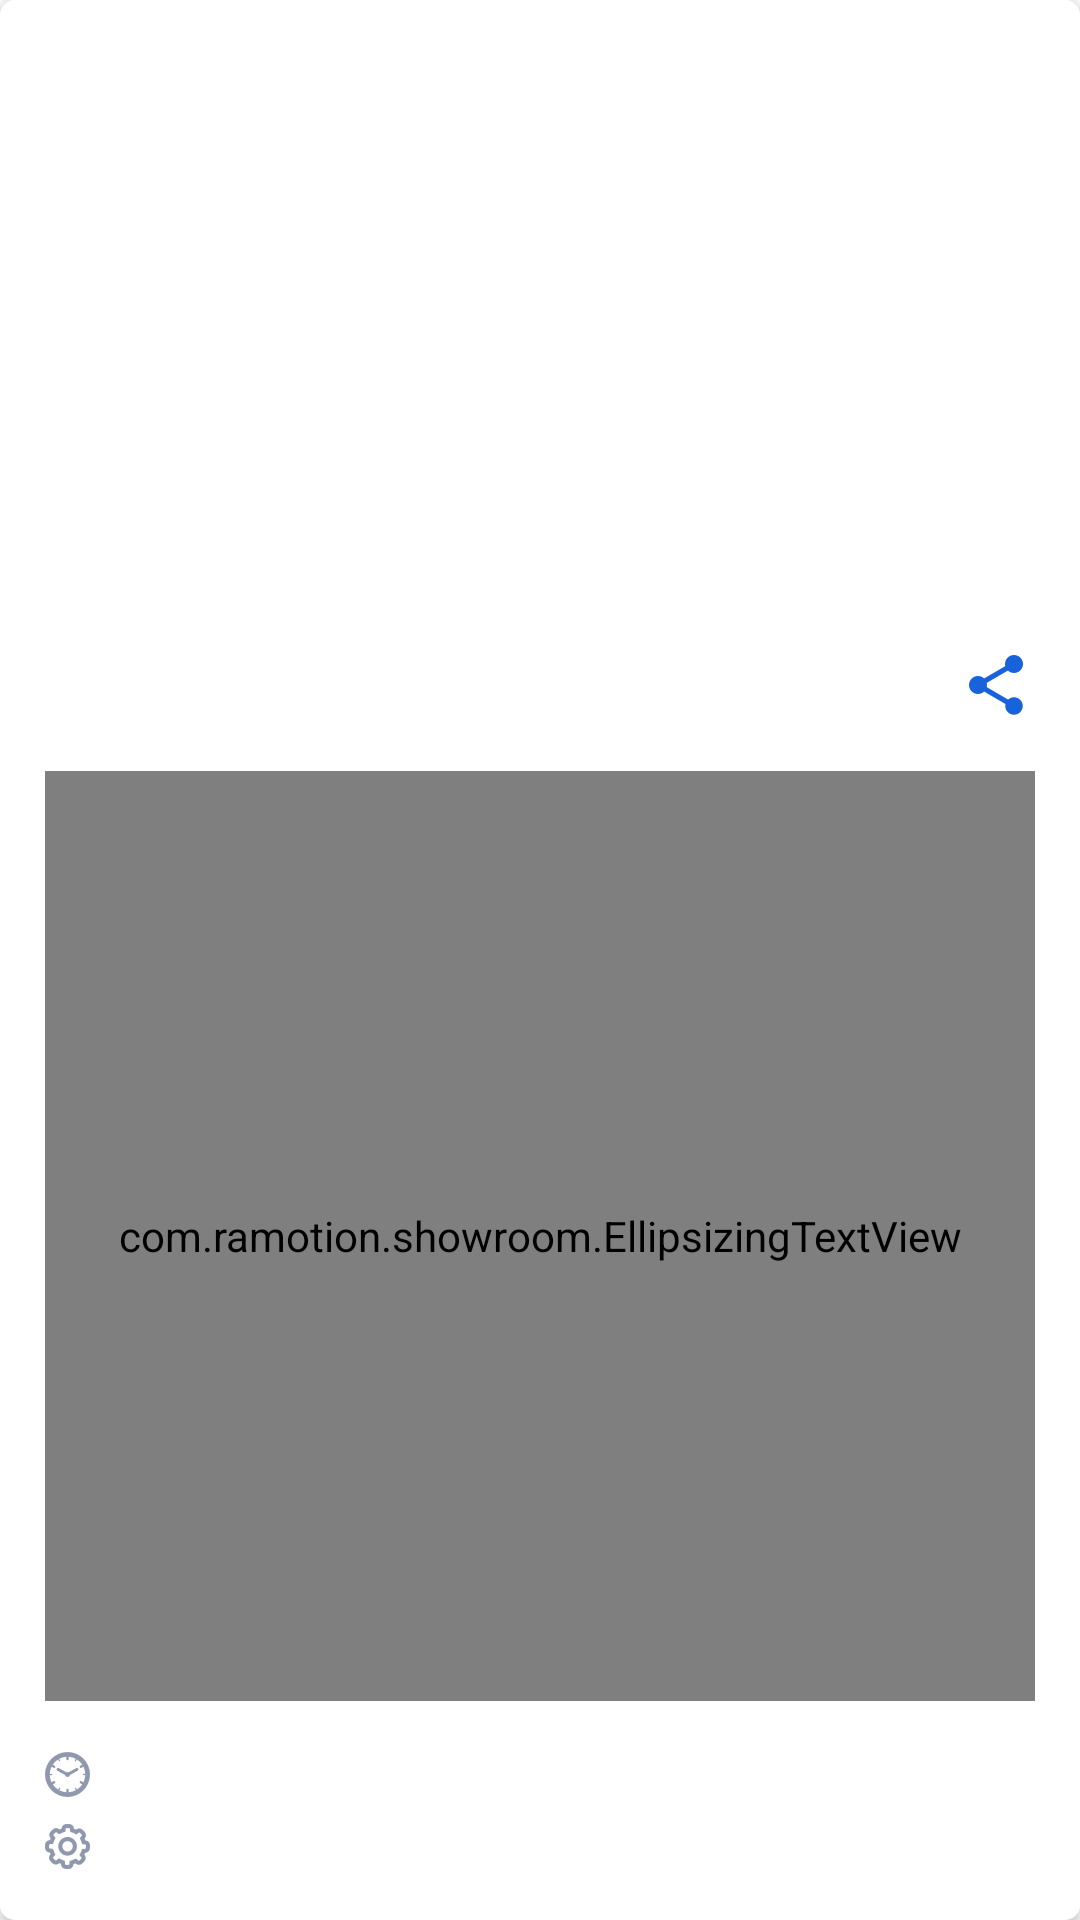

Screen size 1080×1920. Icon name, then its box in pixels as box=[x1, y1, x2, y2]:
share: box=[969, 655, 1023, 715]
